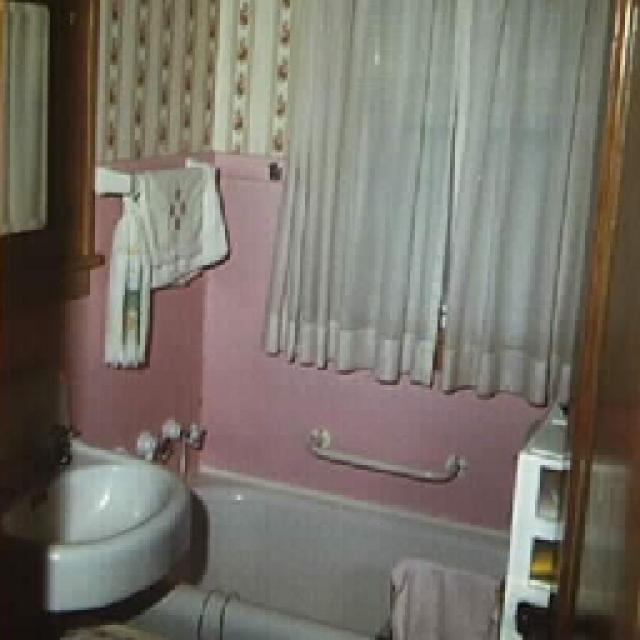bath occluded: (130, 412, 202, 458)
bathtub: (118, 465, 505, 635)
curtain crop: (258, 0, 605, 408)
hand rail: (302, 422, 465, 480)
shelf crop: (498, 405, 562, 632)
sink basin: (45, 368, 190, 605)
towel basket: (385, 555, 502, 635)
towel ring: (95, 150, 218, 195)
towels: (100, 162, 225, 365)
